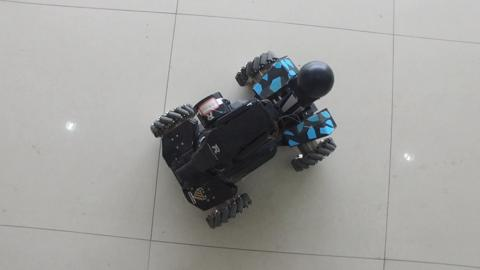chariot: (145, 34, 348, 226)
